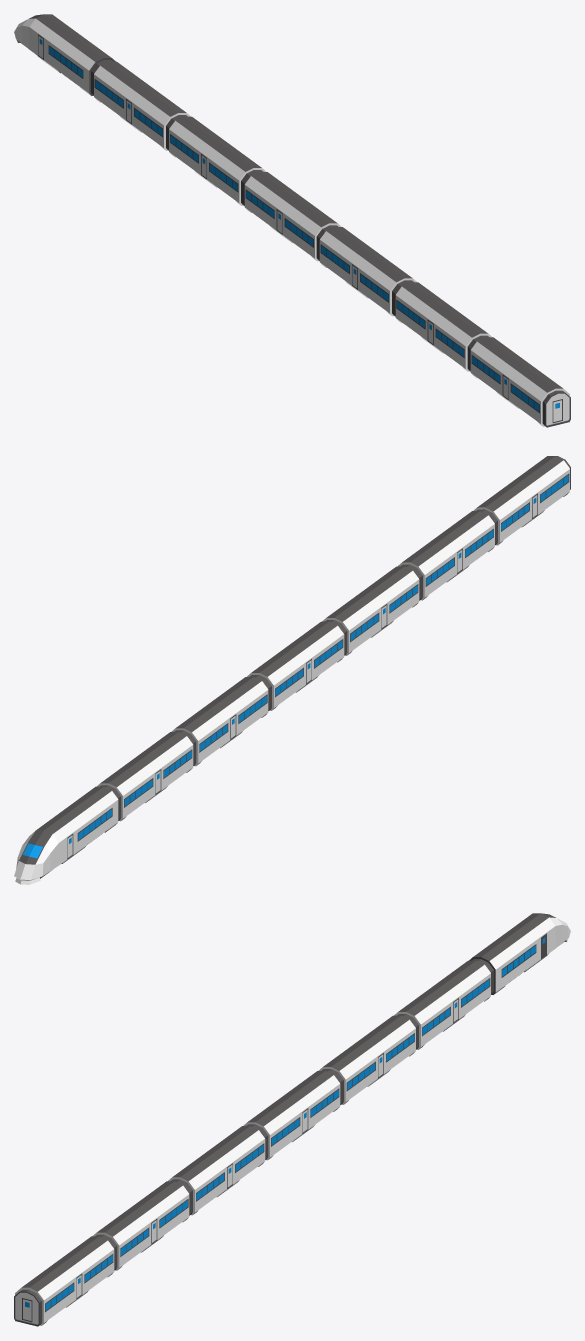
Rendered from train.fbx.
3 renders of one model, top to bottom at view 1: azimuth 30°, elevation 25°; view 2: azimuth 150°, elevation 25°; view 3: azimuth 330°, elevation 25°, orthographic.
Parts seen in each view (by area): view 1: train; view 2: train; view 3: train.
Part boxes in pixels (x1,y1,x2,y2): train: (14,14,570,427); train: (14,456,570,884); train: (14,913,570,1326).
Bounding box in the file's own units: 310 × 392 × 9868.
